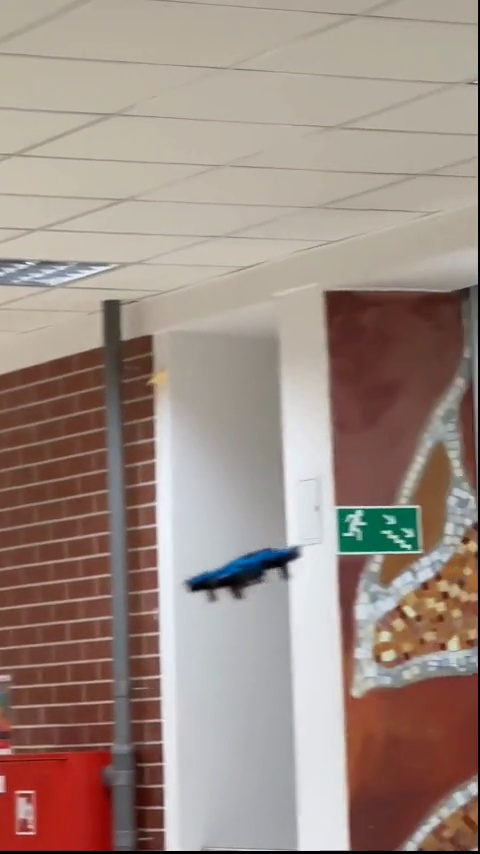drone: (184, 542, 301, 602)
